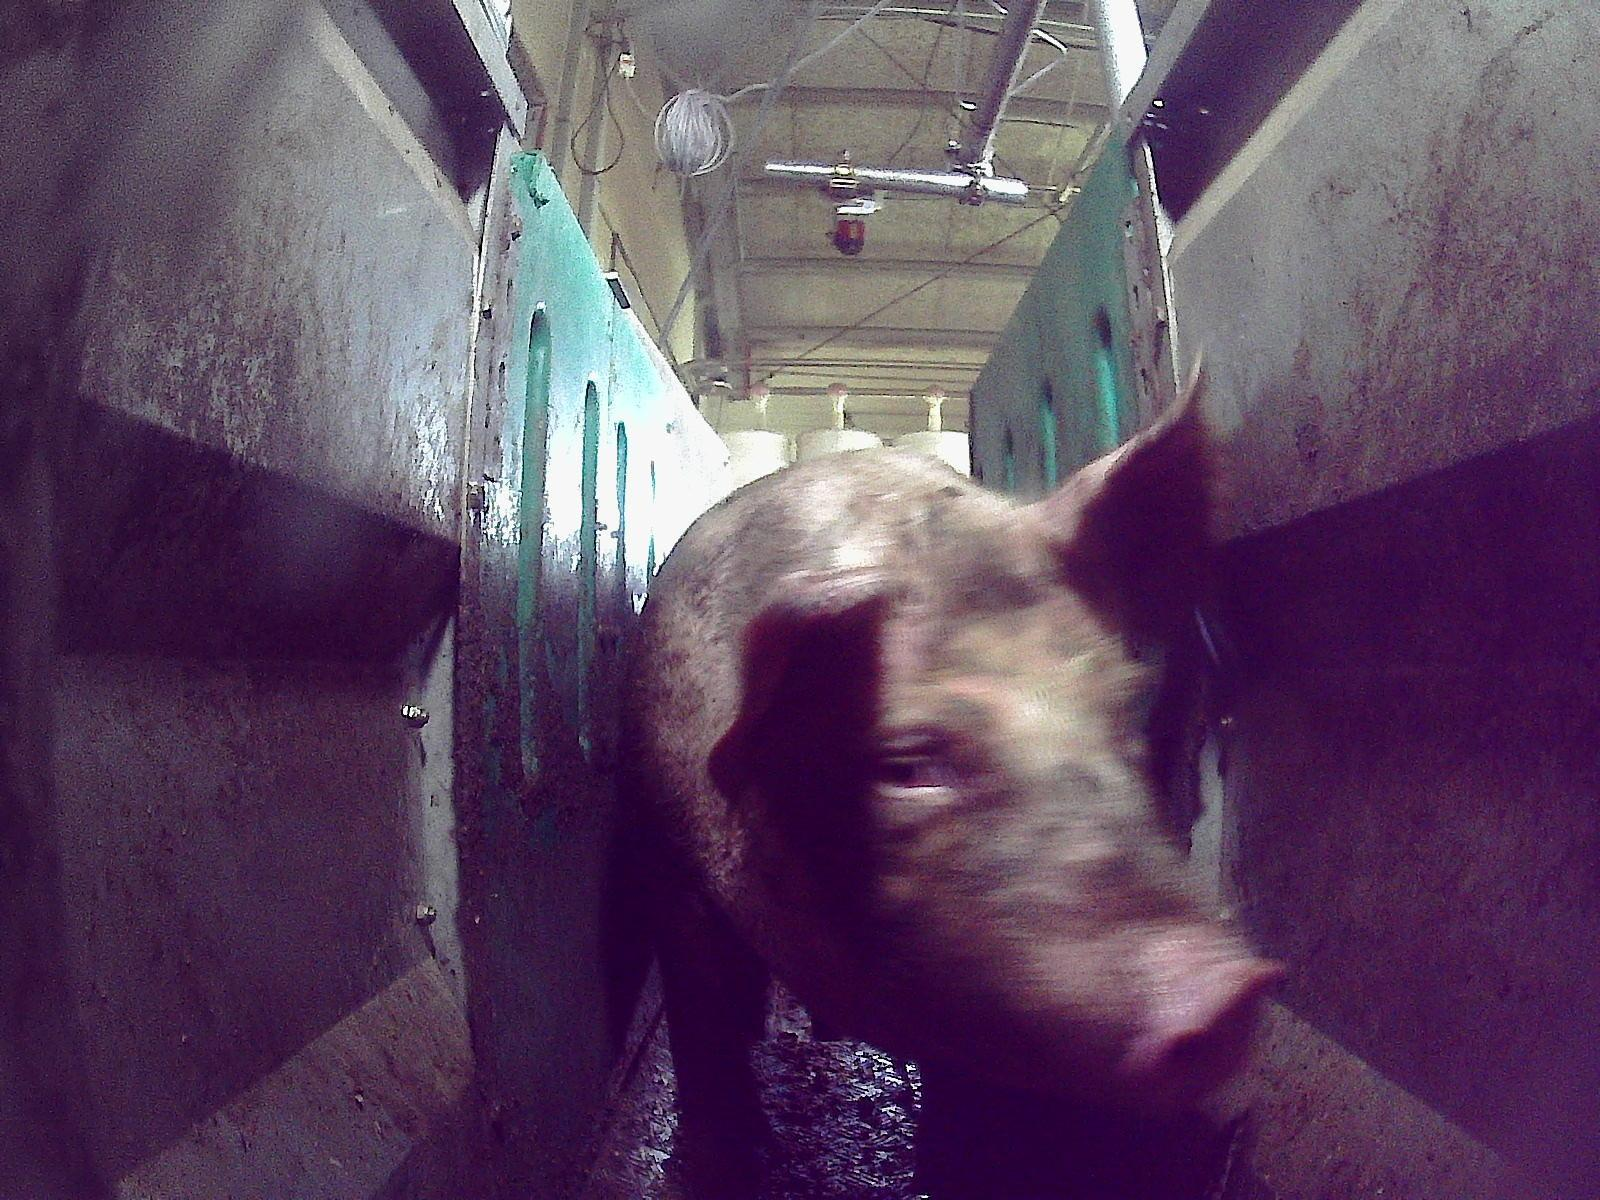Face: (781, 598, 1286, 1103)
